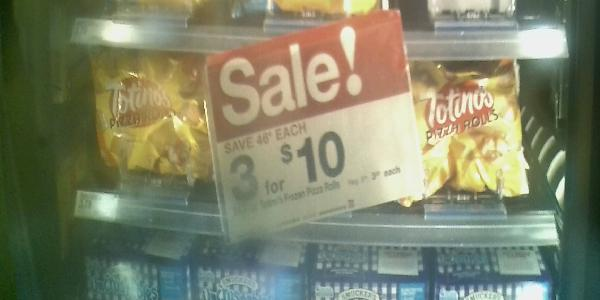icecream: (389, 52, 543, 218), (76, 43, 220, 189)
